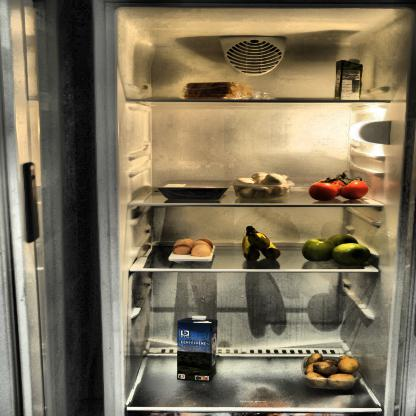apple: (300, 232, 372, 266)
banana: (239, 224, 285, 262)
eggs: (171, 236, 209, 260)
heavy_cream: (332, 59, 366, 102)
milk: (172, 315, 219, 384)
mushrooms: (234, 173, 291, 199)
potato: (303, 351, 361, 389)
tomato: (310, 176, 368, 203)
